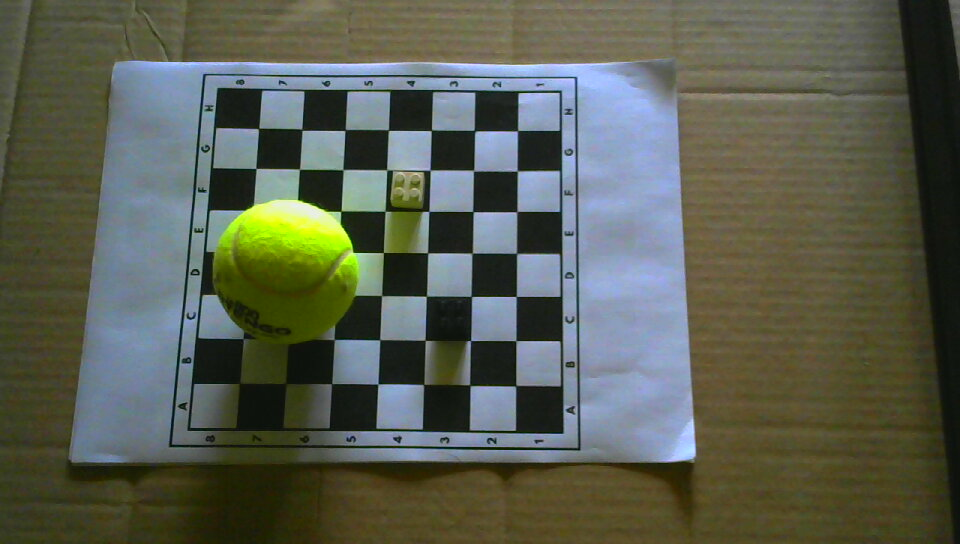bp: (433, 297, 472, 338)
wp: (391, 169, 425, 210)
